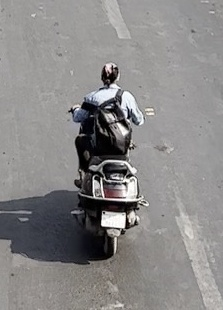BikeWithRider: (55, 56, 154, 264)
NoHelmet: (98, 59, 123, 88)
